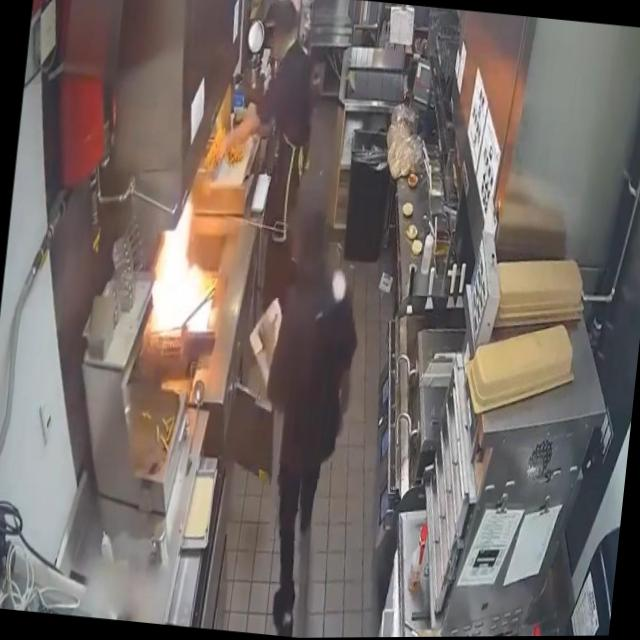fire: (142, 187, 228, 347)
